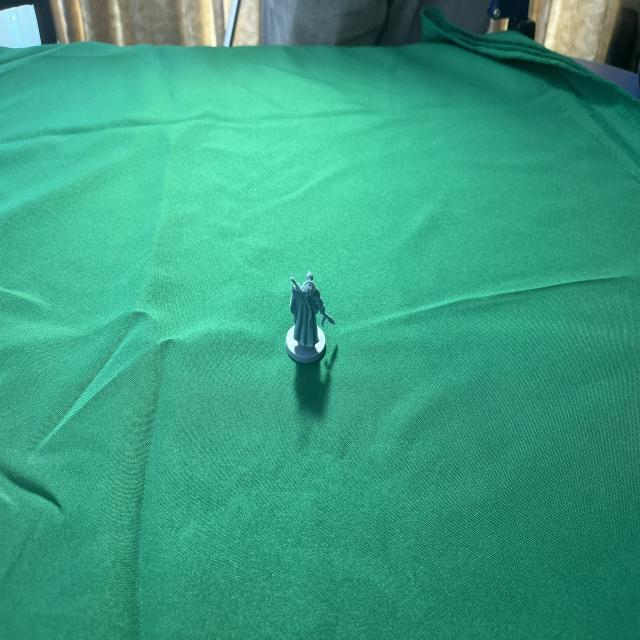isis_follower: (278, 267, 344, 368)
